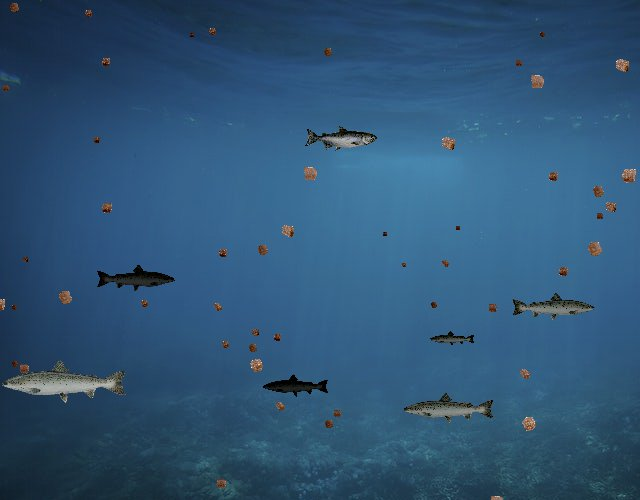Fish: (0, 358, 129, 404), (403, 392, 497, 426), (510, 291, 596, 322), (95, 263, 176, 292), (304, 125, 377, 151), (262, 373, 330, 398), (429, 330, 476, 347)
Pellet: (242, 351, 270, 379), (614, 160, 640, 190), (274, 217, 301, 244), (4, 0, 25, 18), (80, 6, 96, 22), (536, 28, 549, 41), (19, 254, 31, 266)
